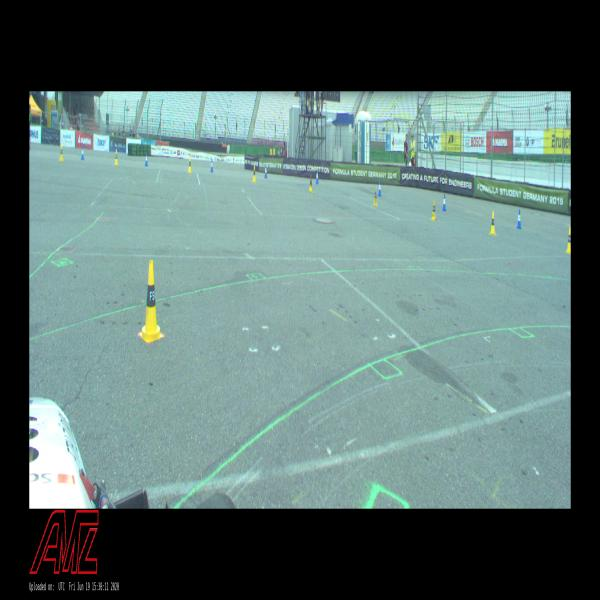blue_cone: (516, 209, 522, 229), (442, 194, 446, 211), (378, 180, 381, 196), (81, 146, 84, 160), (145, 154, 148, 166), (316, 170, 318, 183), (211, 159, 213, 172), (265, 165, 267, 178)
yellow_cone: (140, 260, 163, 342), (490, 212, 496, 235), (566, 228, 570, 253), (432, 200, 436, 220), (374, 187, 378, 206), (252, 166, 256, 182), (114, 149, 118, 165), (188, 157, 192, 172), (309, 175, 312, 192), (60, 145, 63, 161)
